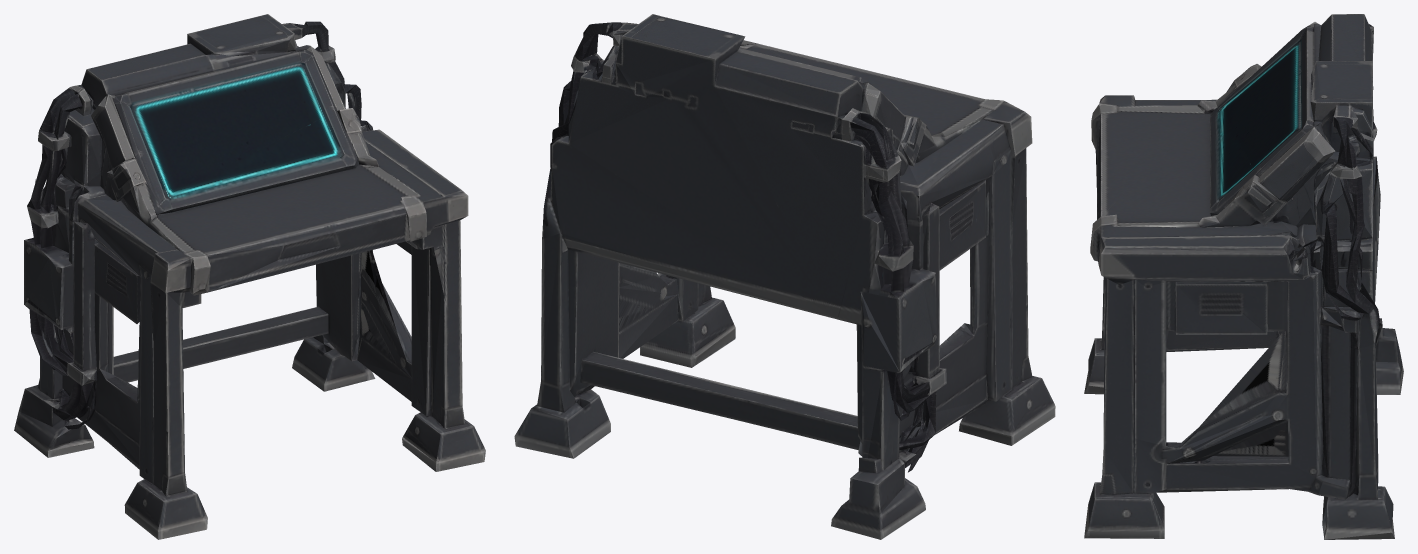
The model's file is UpgradeStation.glb.
3 views of the same model, side by side, from view 1: azimuth 30°, elevation 25°; view 2: azimuth 150°, elevation 25°; view 3: azimuth 270°, elevation 25° (orthographic). The views are drawn at different scales.
Visible parts, largest first — view 1: output_unwrapped; view 2: output_unwrapped; view 3: output_unwrapped.
Part boxes in pixels (bbox=[...]): output_unwrapped: bbox=[14, 14, 485, 539]; output_unwrapped: bbox=[514, 14, 1055, 539]; output_unwrapped: bbox=[1084, 14, 1403, 539].
Size of the model in its own units: 1.77 by 1.9 by 1.4.
Materials: 1 (1 with a texture image).
